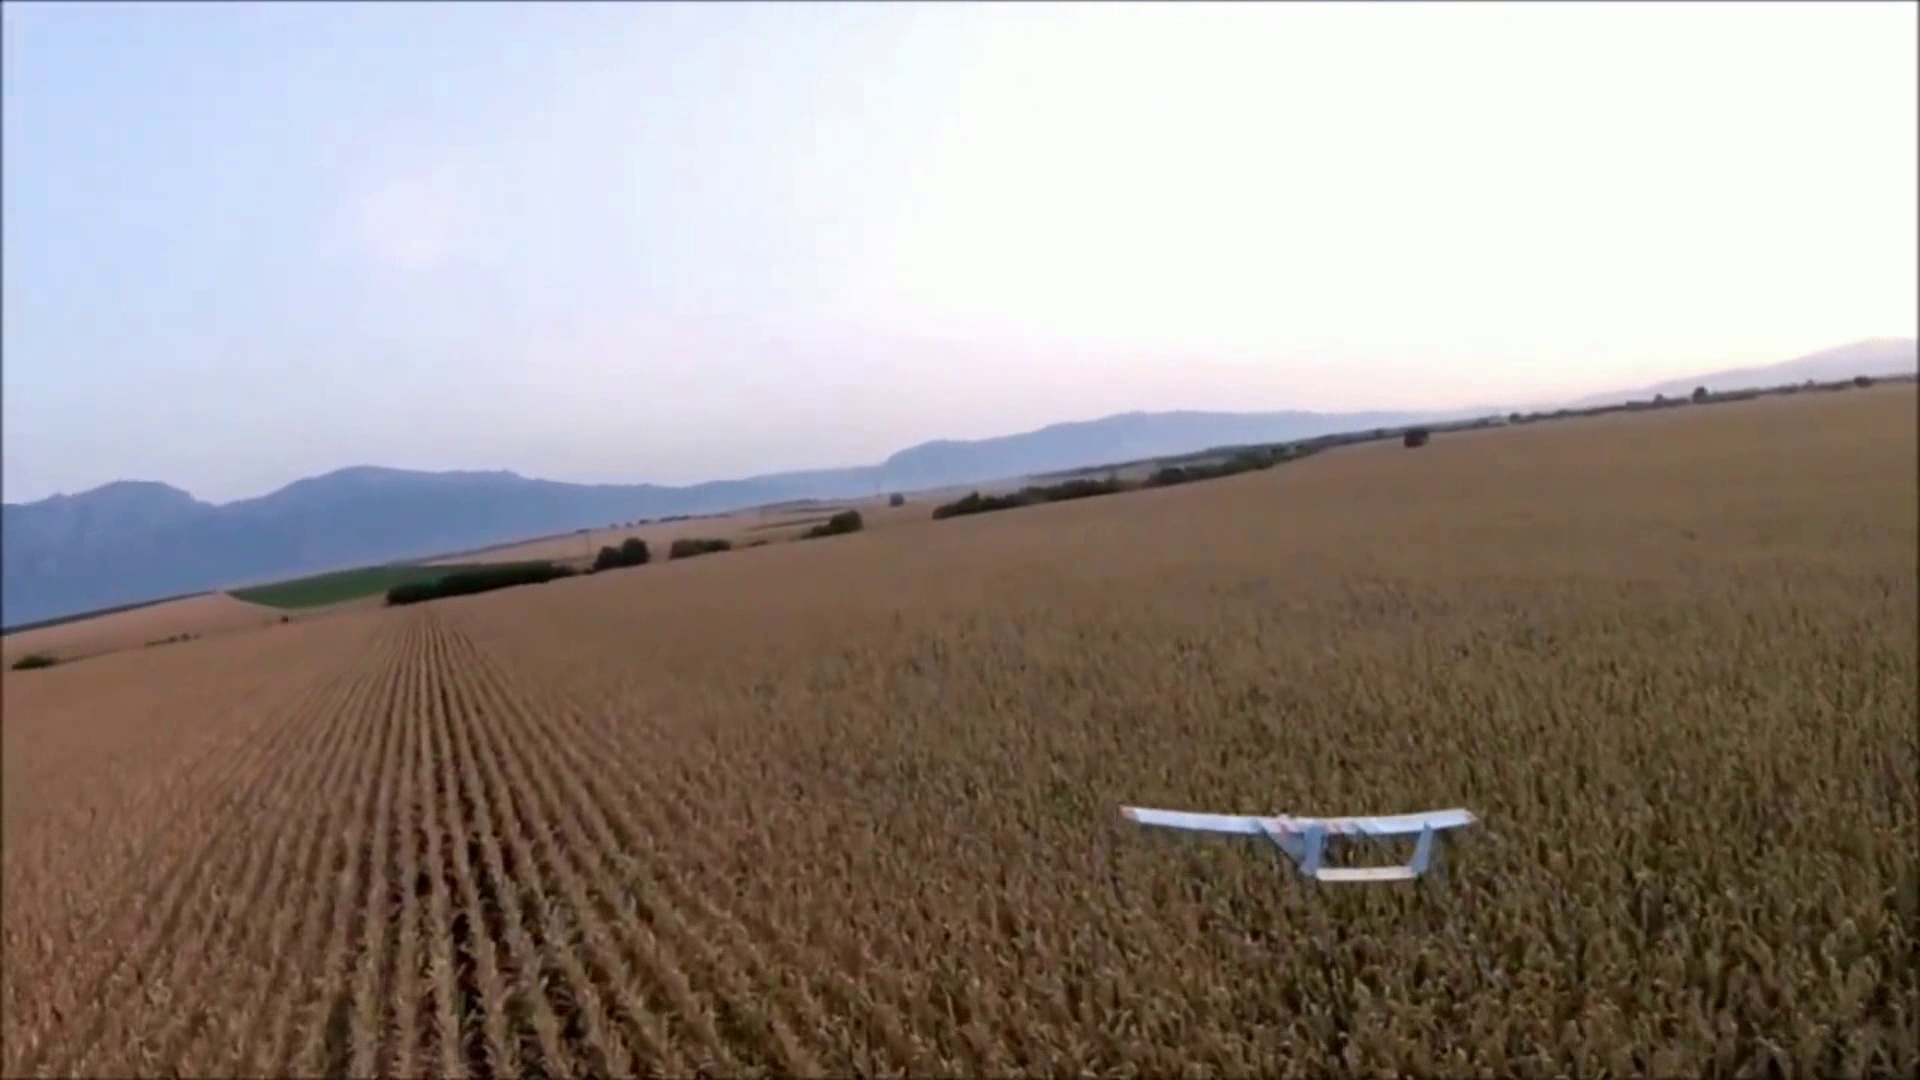airplane: (1120, 803, 1477, 884)
